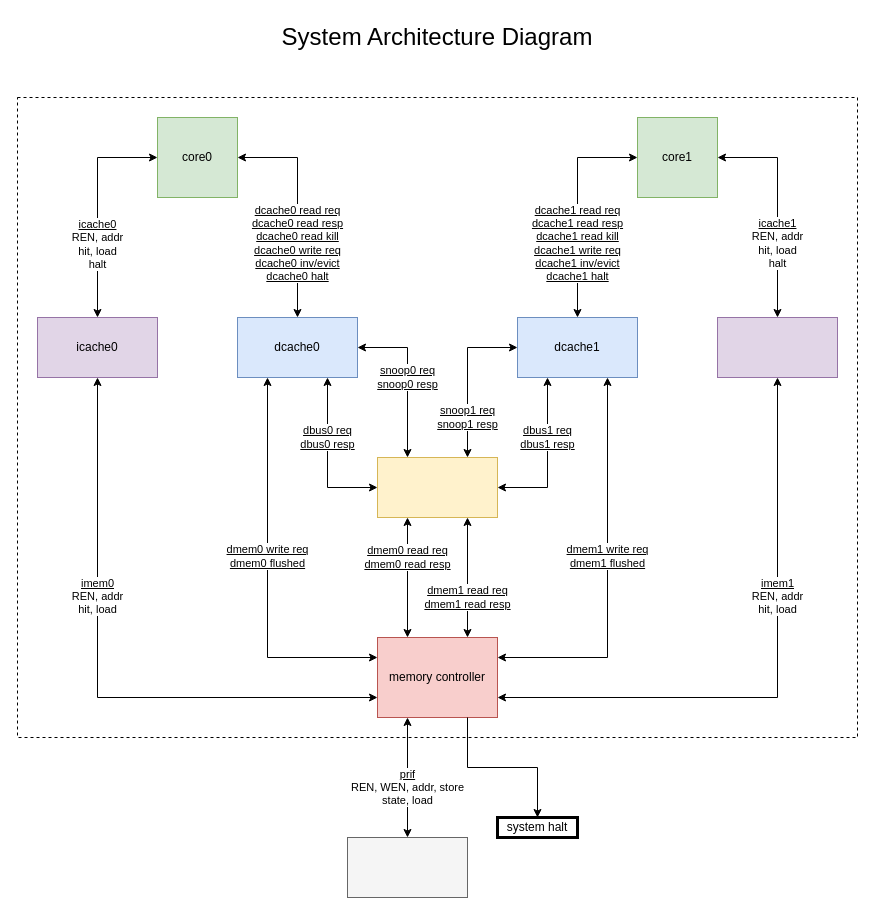
Some shapes in this 875 by 915 pixel diagram are drawn without their labels. The shapes that lost their labels are listed below. From the top down, each one's box as (x1, y1, x2, y2) in pixels, then its label:
(716, 316, 838, 378): icache1
(376, 456, 498, 518): bus controller
(346, 836, 468, 898): memory
